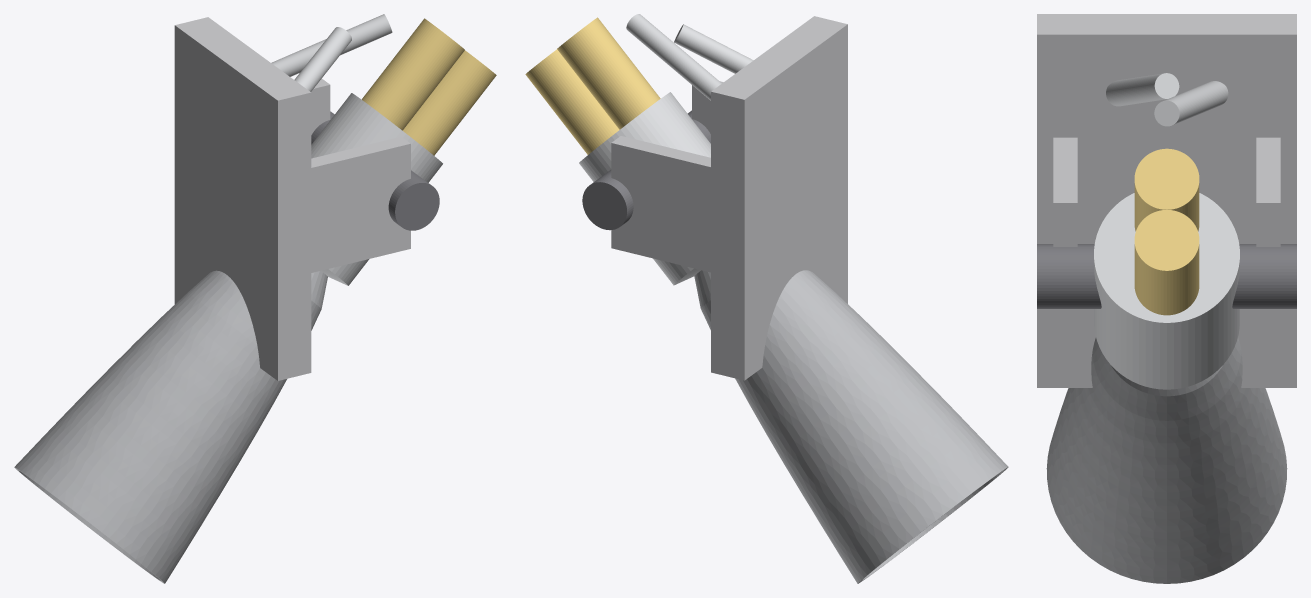
Rendered from prop17_vernier_swivel_pos.glb.
3 views of the same model, side by side, from view 1: azimuth 30°, elevation 25°; view 2: azimuth 150°, elevation 25°; view 3: azimuth 270°, elevation 25° (orthographic). The views are drawn at different scales.
Visible parts, largest first — view 1: bracket, nozzle_bell, nozzle_valves, nozzle_chamber, feed_lines, swivel_axle; view 2: bracket, nozzle_bell, nozzle_valves, nozzle_chamber, feed_lines, swivel_axle; view 3: bracket, nozzle_bell, nozzle_chamber, nozzle_valves, swivel_axle, feed_lines.
Boxes of the visible parts, bbox=[...] form: bracket: bbox=[174, 17, 410, 380]; nozzle_bell: bbox=[14, 270, 327, 583]; nozzle_valves: bbox=[362, 18, 496, 155]; nozzle_chamber: bbox=[311, 93, 442, 285]; feed_lines: bbox=[271, 14, 392, 91]; swivel_axle: bbox=[311, 111, 439, 230]; bracket: bbox=[611, 16, 847, 380]; nozzle_bell: bbox=[694, 270, 1008, 583]; nozzle_valves: bbox=[525, 17, 660, 154]; nozzle_chamber: bbox=[579, 92, 710, 285]; feed_lines: bbox=[626, 14, 753, 100]; swivel_axle: bbox=[582, 110, 710, 230]; bracket: bbox=[1037, 14, 1296, 387]; nozzle_bell: bbox=[1046, 338, 1287, 583]; nozzle_chamber: bbox=[1094, 193, 1239, 389]; nozzle_valves: bbox=[1134, 148, 1199, 315]; swivel_axle: bbox=[1037, 244, 1296, 308]; feed_lines: bbox=[1106, 73, 1228, 126].
Bounding box in the file's own units: 0.4129 × 0.4274 × 0.16.
